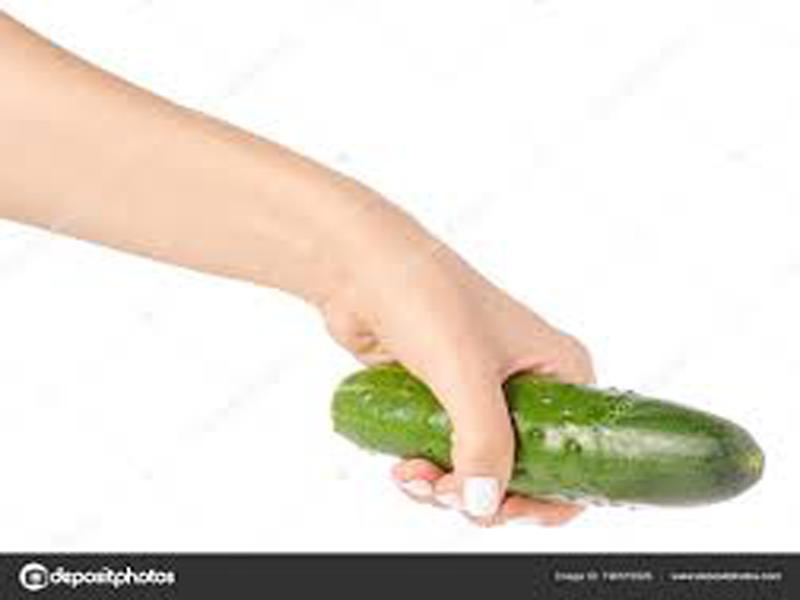Cucumber: (333, 363, 765, 507)
